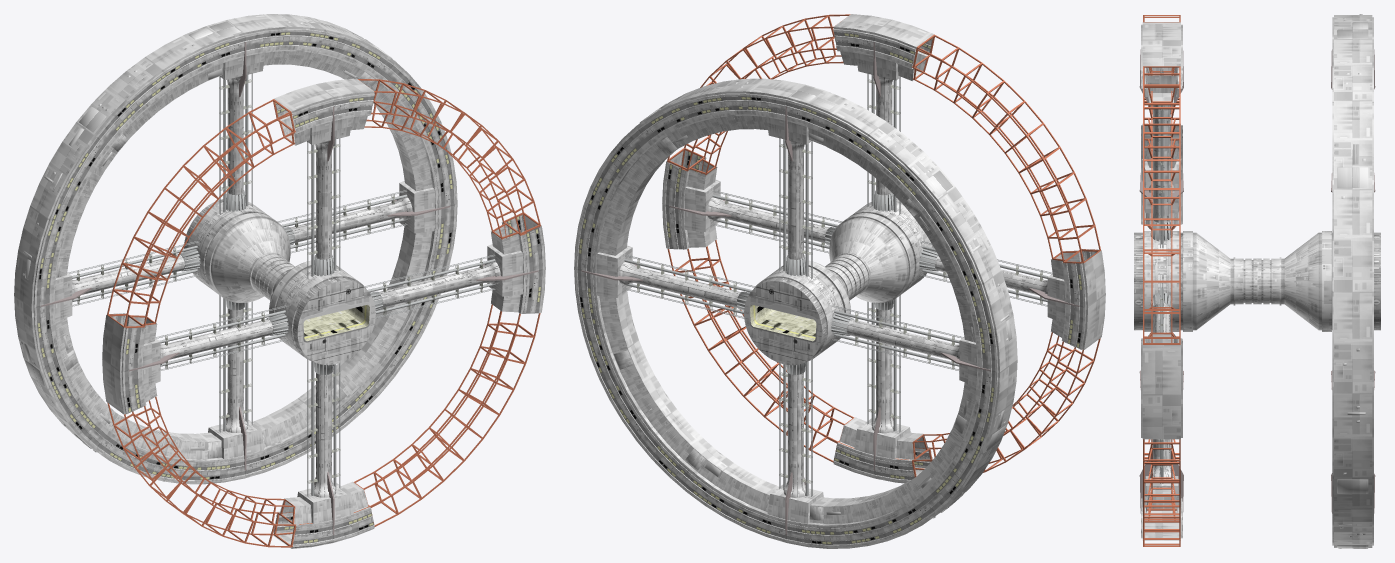
The model's file is satss01.glb.
3 renders of one model, left to right at view 1: azimuth 30°, elevation 25°; view 2: azimuth 150°, elevation 25°; view 3: azimuth 270°, elevation 25°, orthographic. The views are drawn at different scales.
Parts seen in each view (by area): view 1: Wheel01, Mesh02_Material #26_0, Wheel_Gird, Cables01, Hub, Wheel02, Bay_Face_1, Spoke04, Spoke01, Spoke02, Spoke03, Blocks04 (+10 smaller); view 2: Wheel01, Mesh01_Material #26_0, Wheel_Gird, Cables01, Hub, Wheel02, Spoke01, Spoke04, Bay_Face_0, Spoke03, Spoke02, Blocks04 (+10 smaller); view 3: Wheel01, Hub, Wheel02, Wheel_Gird, Spoke03, Spoke_Supp, Cables01, Blocks02, Blocks01, Blocks03, Spoke01, Spoke04.
Part boxes in pixels (x1,y1,x2,y2): Wheel01: (14, 14, 457, 484); Mesh02_Material #26_0: (34, 29, 456, 482); Wheel_Gird: (107, 79, 540, 547); Cables01: (68, 73, 495, 496); Hub: (184, 199, 365, 361); Wheel02: (102, 78, 545, 548); Bay_Face_1: (297, 281, 375, 365); Spoke04: (288, 197, 500, 307); Spoke01: (226, 302, 335, 497); Spoke02: (72, 255, 287, 364); Spoke03: (227, 75, 335, 274); Blocks04: (399, 181, 523, 296); Wheel01: (574, 78, 1017, 548); Mesh01_Material #26_0: (575, 94, 997, 547); Wheel_Gird: (667, 14, 1100, 477); Cables01: (624, 73, 1052, 496); Hub: (754, 199, 935, 361); Wheel02: (662, 14, 1105, 483); Spoke01: (784, 302, 893, 497); Spoke04: (619, 197, 831, 307); Bay_Face_0: (744, 281, 822, 365); Spoke03: (784, 75, 892, 274); Spoke02: (832, 256, 1047, 364); Blocks04: (596, 179, 720, 297); Wheel01: (1332, 14, 1373, 548); Hub: (1134, 231, 1380, 331); Wheel02: (1141, 22, 1182, 540); Wheel_Gird: (1143, 15, 1180, 546); Spoke03: (1153, 105, 1170, 239); Spoke_Supp: (1139, 49, 1375, 513); Cables01: (1150, 69, 1172, 483); Blocks02: (1142, 159, 1181, 213); Blocks01: (1142, 476, 1181, 508); Blocks03: (1142, 67, 1179, 96); Spoke01: (1149, 439, 1174, 479); Spoke04: (1153, 295, 1170, 332).
Bounding box in the file's own units: 17.53 × 17.56 × 8.11.
Materials: 12 (8 with a texture image).
